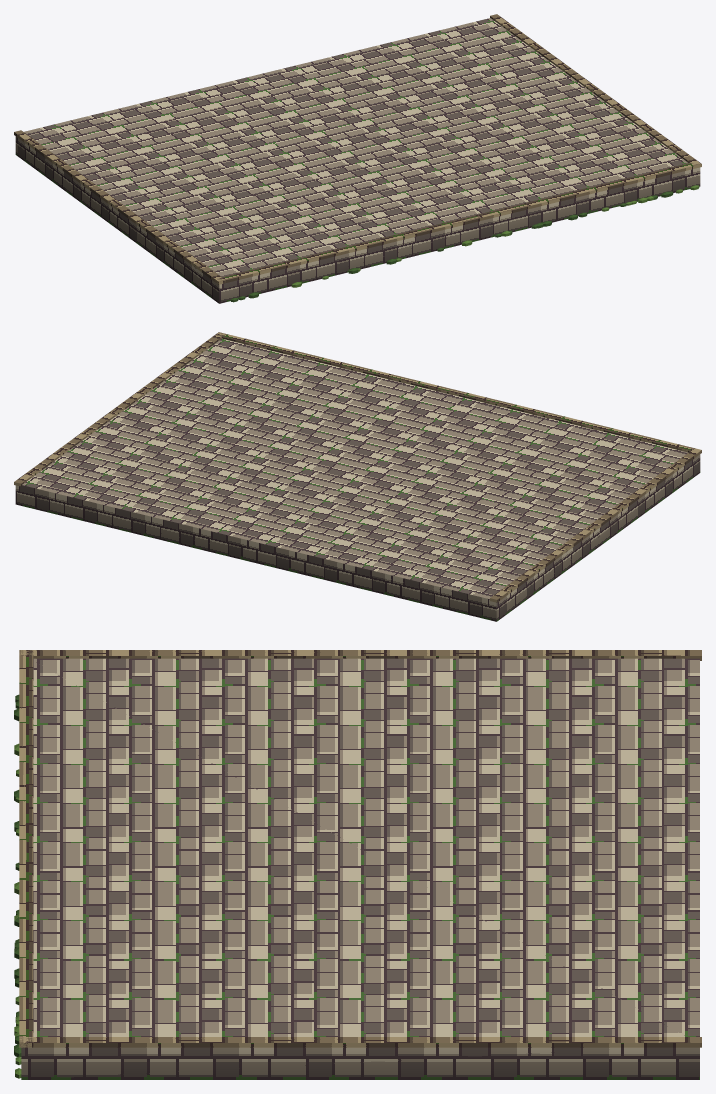
The model's file is scene_wall_s.glb.
3 renders of one model, top to bottom at view 1: azimuth 30°, elevation 25°; view 2: azimuth 150°, elevation 25°; view 3: azimuth 270°, elevation 25°, orthographic. The views are drawn at different scales.
Visible parts, largest first — view 1: scene_wall_s; view 2: scene_wall_s; view 3: scene_wall_s.
Boxes of the visible parts, x1,y1,x2,y2 form: scene_wall_s: [14, 14, 701, 303]; scene_wall_s: [14, 332, 701, 621]; scene_wall_s: [14, 650, 701, 1079].
Size of the model in its own units: 24.1 by 1.17 by 17.84.
2 materials, 1 textured.
